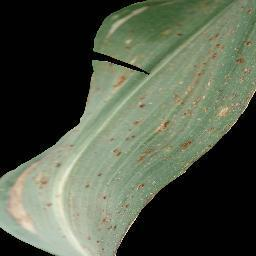Corn_Common_Rust: (78, 56, 133, 256), (0, 135, 75, 256), (205, 0, 256, 150), (134, 83, 192, 182), (88, 0, 191, 53), (190, 56, 204, 165), (133, 181, 160, 212)
